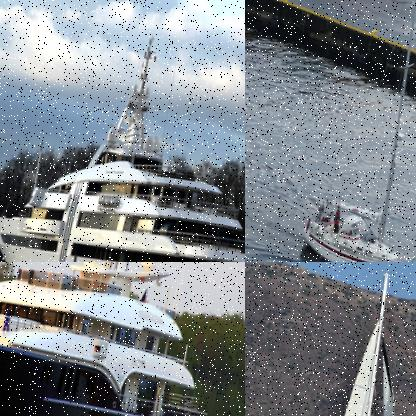Sails Boat: (294, 0, 415, 261), (251, 262, 415, 415)
Yacht: (0, 11, 244, 261), (0, 262, 244, 415)
